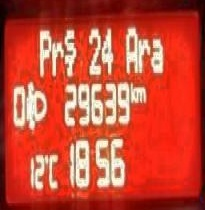0: (13, 80, 25, 124)
1: (68, 135, 73, 190), (28, 149, 33, 188)
2: (88, 23, 101, 74), (62, 80, 75, 126), (33, 149, 43, 188)
3: (104, 80, 117, 124)
4: (100, 23, 113, 74)
5: (94, 133, 109, 186)
6: (109, 133, 124, 186), (89, 80, 103, 124)
8: (74, 135, 89, 188)
9: (76, 78, 89, 126), (117, 78, 129, 124)
X: (38, 25, 49, 76), (125, 23, 136, 73), (64, 23, 75, 73), (137, 34, 149, 73), (151, 34, 163, 73), (51, 35, 62, 76), (48, 147, 58, 190), (136, 81, 145, 103), (129, 80, 136, 103)
